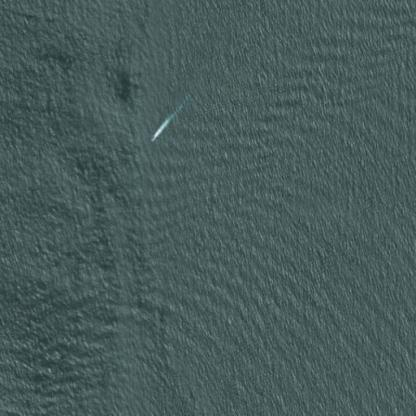ship: (149, 133, 157, 142)
